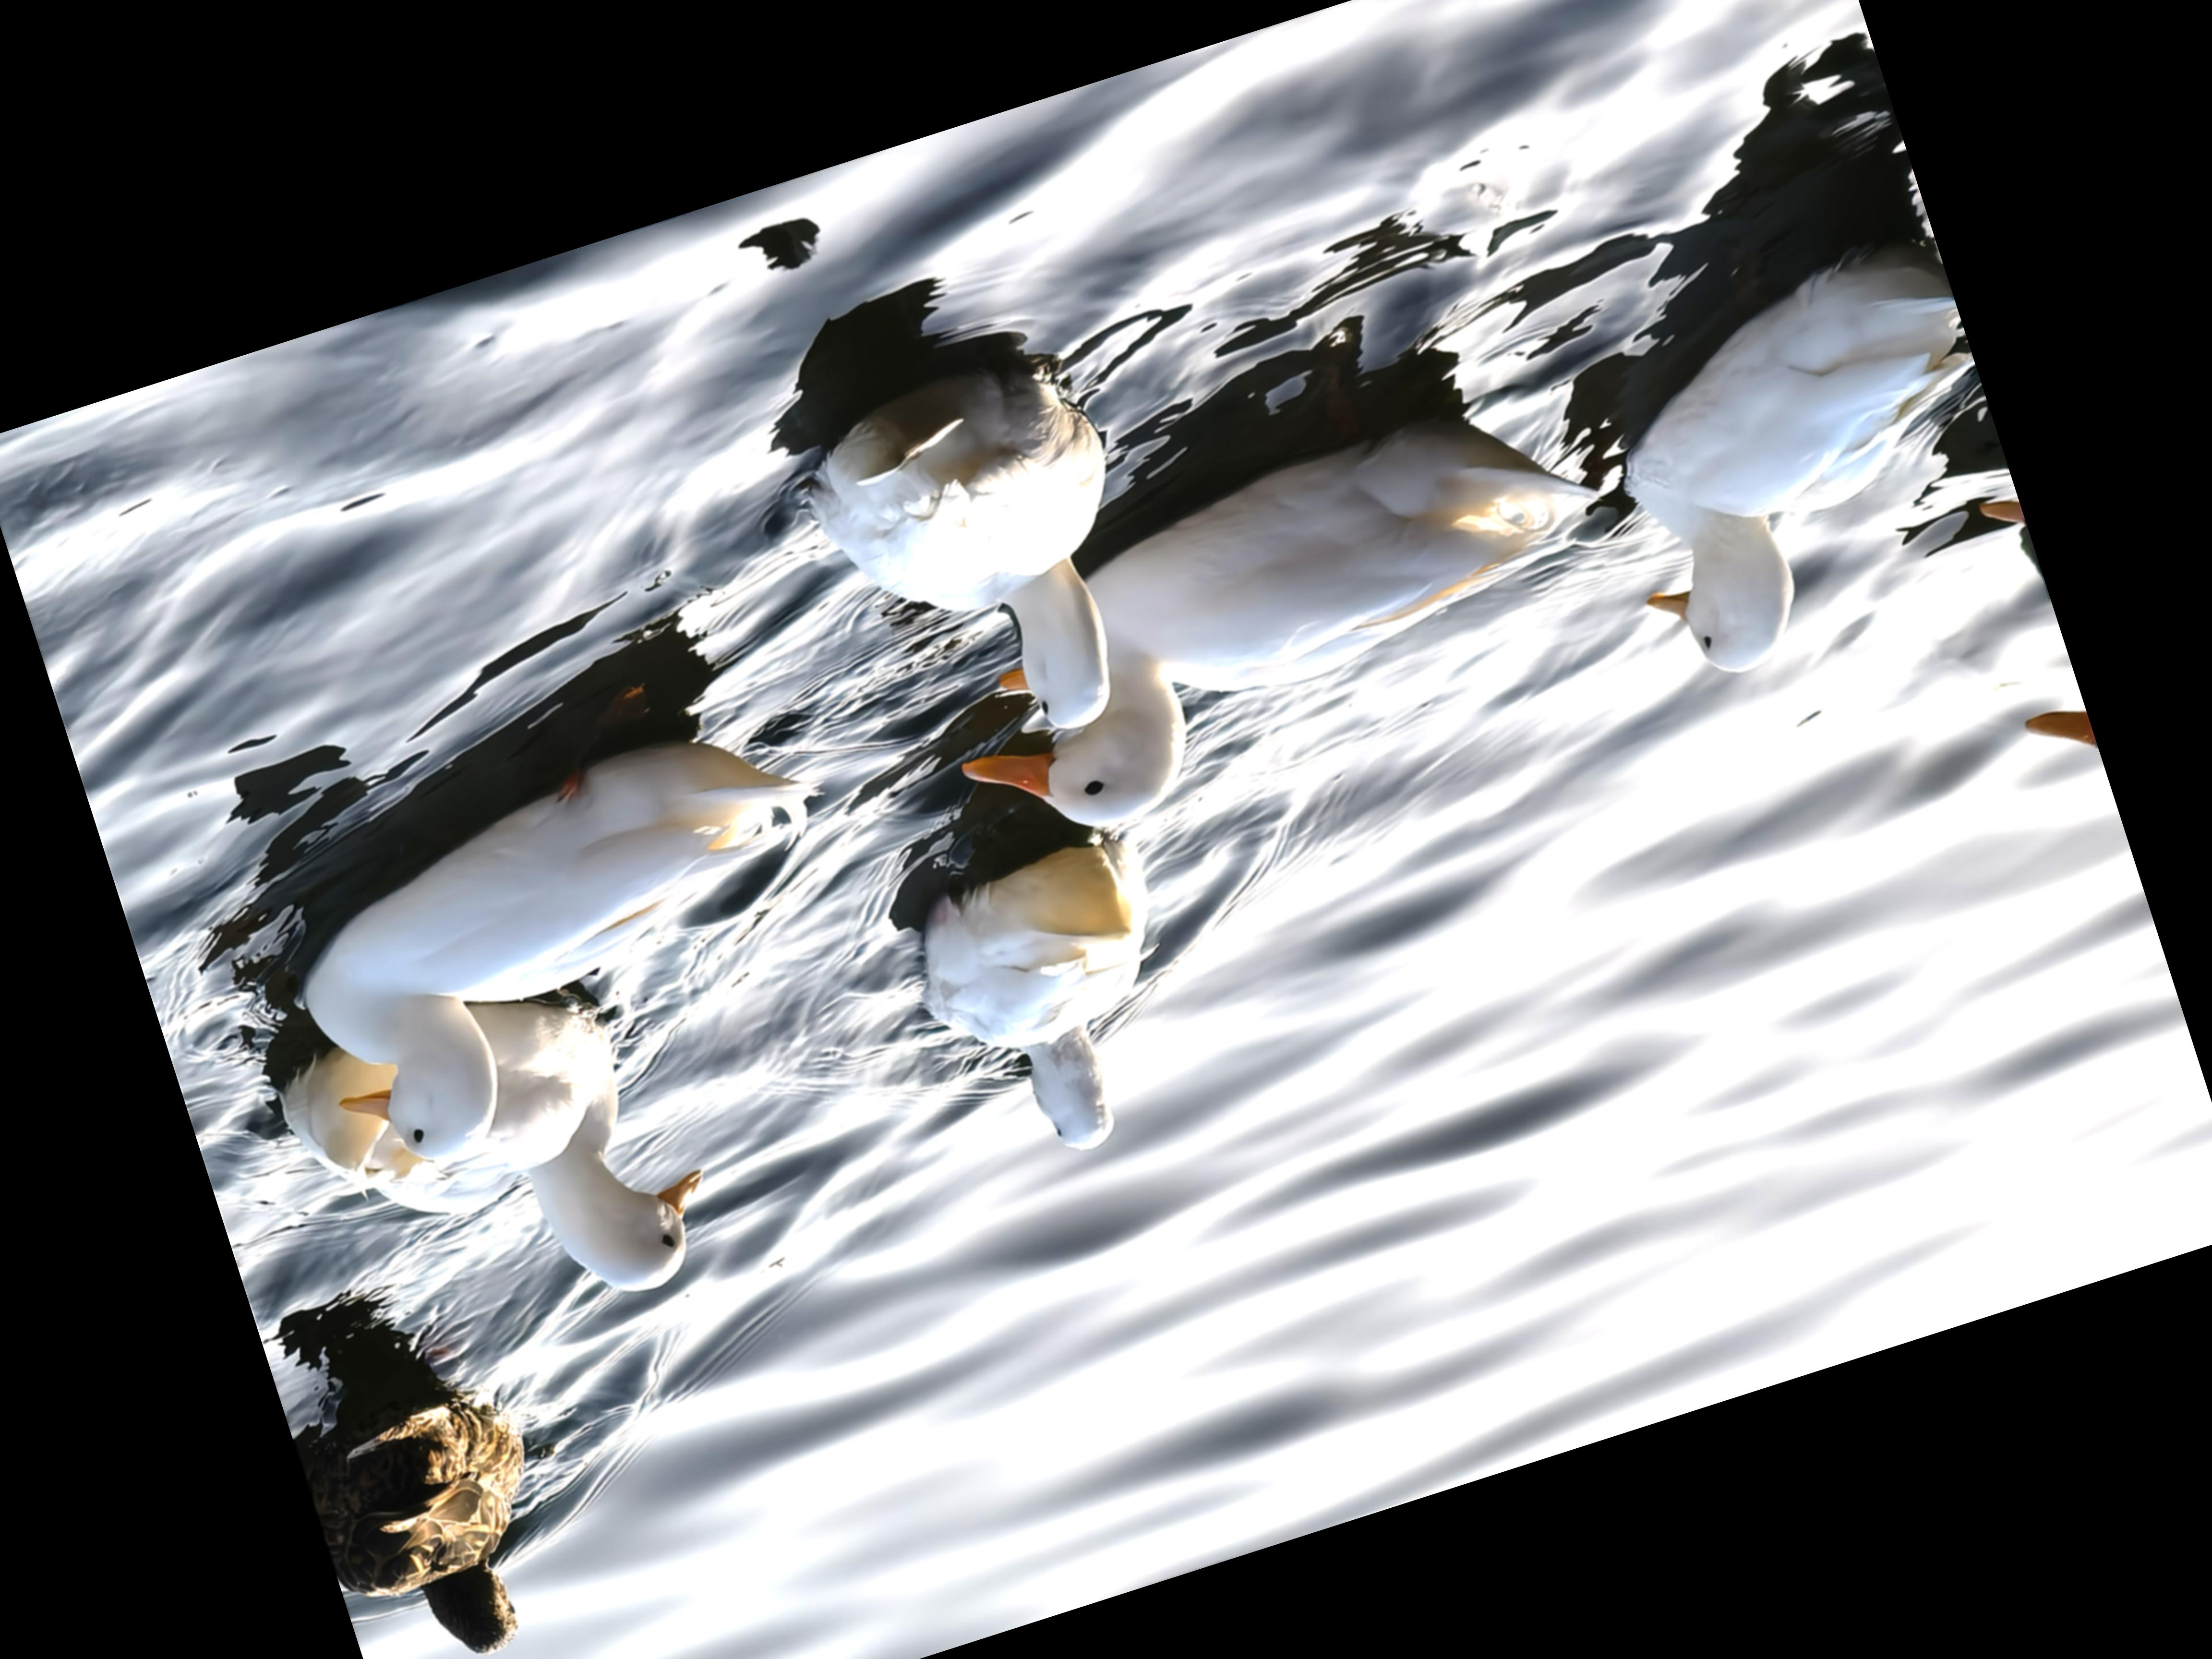duck: (880, 369, 1644, 878), (233, 676, 883, 1199), (239, 945, 786, 1415), (1545, 230, 2048, 718), (749, 312, 1190, 803), (874, 835, 1223, 1209), (286, 1354, 575, 1659)
